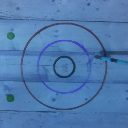Axe Tip: (99, 55, 111, 58)
